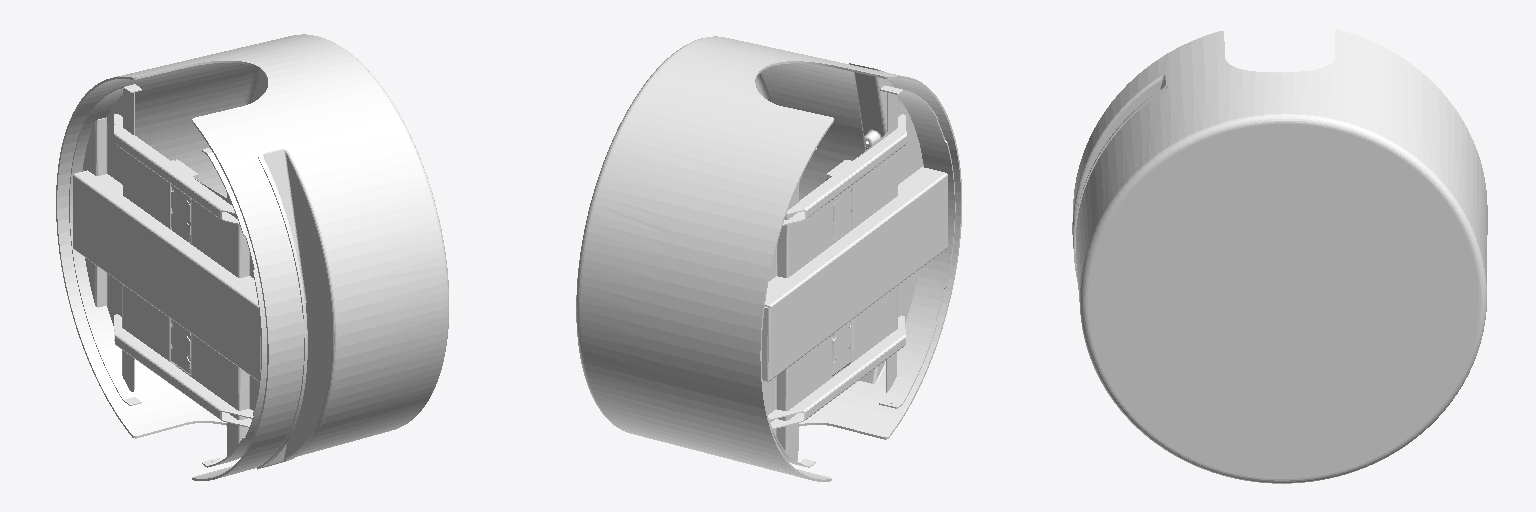
3 views of the same model, side by side, from view 1: azimuth 30°, elevation 25°; view 2: azimuth 150°, elevation 25°; view 3: azimuth 270°, elevation 25° (orthographic).
Visible parts, largest first — view 1: base; view 2: base; view 3: base.
Boxes of the visible parts, box(x1,y1,x2,y2) form: base: box(56, 34, 448, 480); base: box(576, 36, 961, 481); base: box(1072, 29, 1487, 483).
Size of the model in its own units: 0.2817 by 0.5205 by 0.5263.